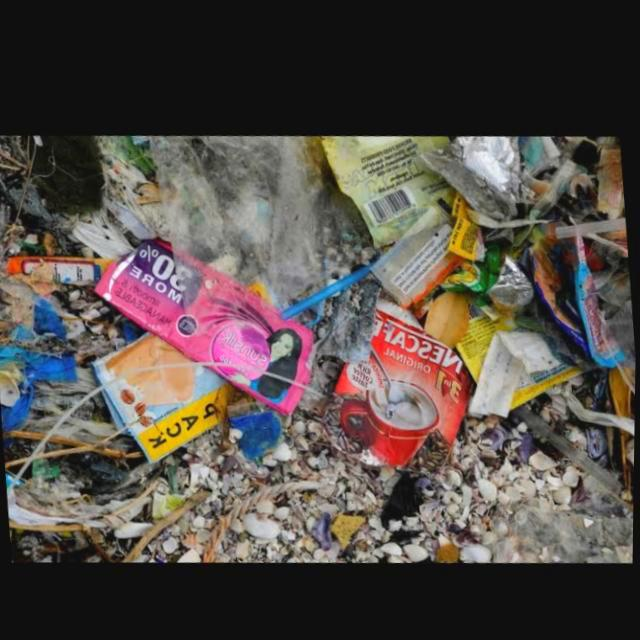plastic_sachet: (94, 234, 314, 409), (335, 287, 476, 459), (89, 330, 230, 458), (575, 247, 626, 356)
